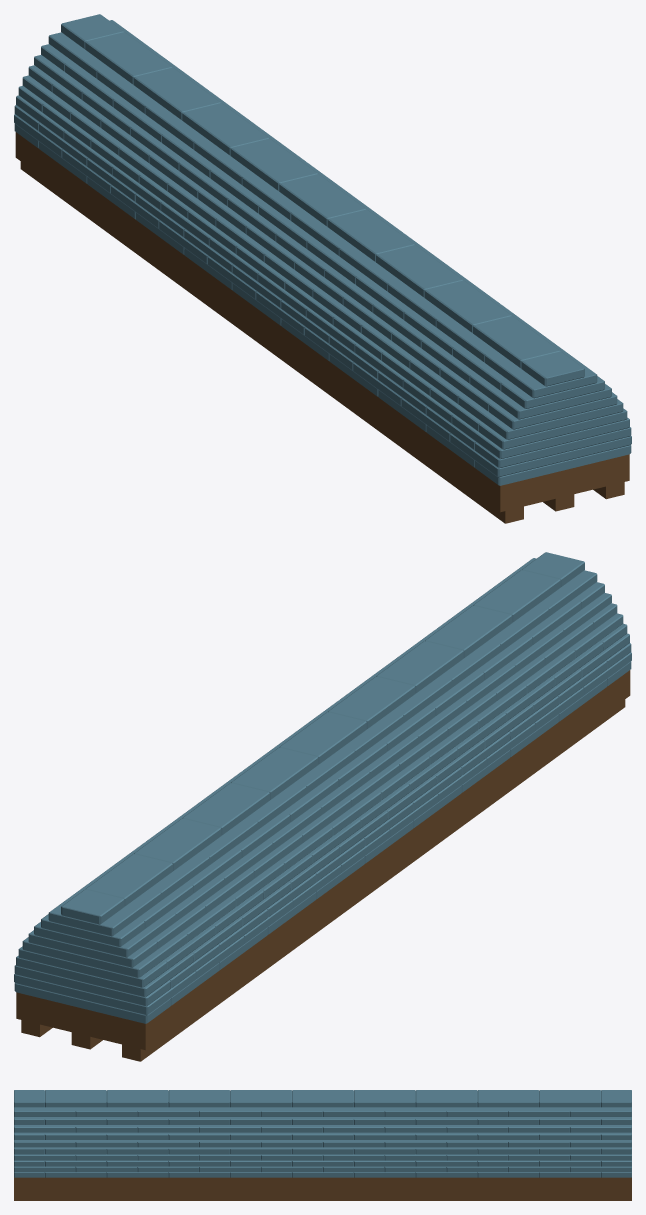
The model's file is BlueRooftop_Long.fbx.
The picture shows the model from 3 angles, top to bottom: view 1: azimuth 30°, elevation 25°; view 2: azimuth 150°, elevation 25°; view 3: azimuth 270°, elevation 25°; orthographic projection. The views are drawn at different scales.
Visible parts, largest first — view 1: BlueRooftop_Long; view 2: BlueRooftop_Long; view 3: BlueRooftop_Long.
Boxes of the visible parts, x1,y1,x2,y2 form: BlueRooftop_Long: (14, 14, 631, 523); BlueRooftop_Long: (14, 552, 631, 1061); BlueRooftop_Long: (14, 1090, 631, 1200).
Size of what is drawn, in the model's own units: 80 by 77.28 by 500.
